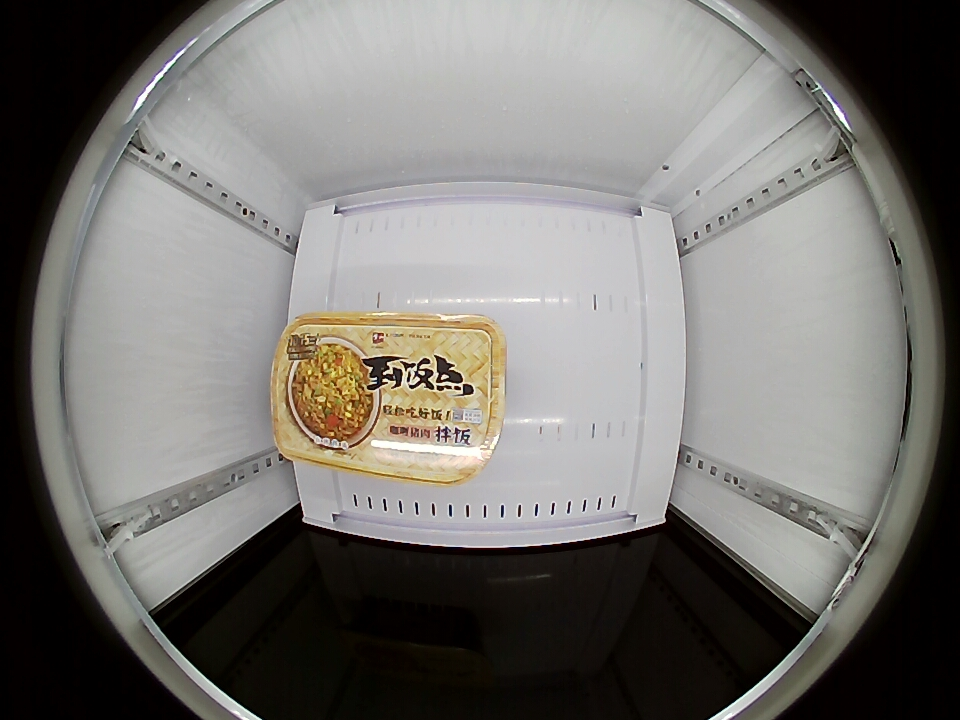daofandian3: (272, 312, 507, 483)
